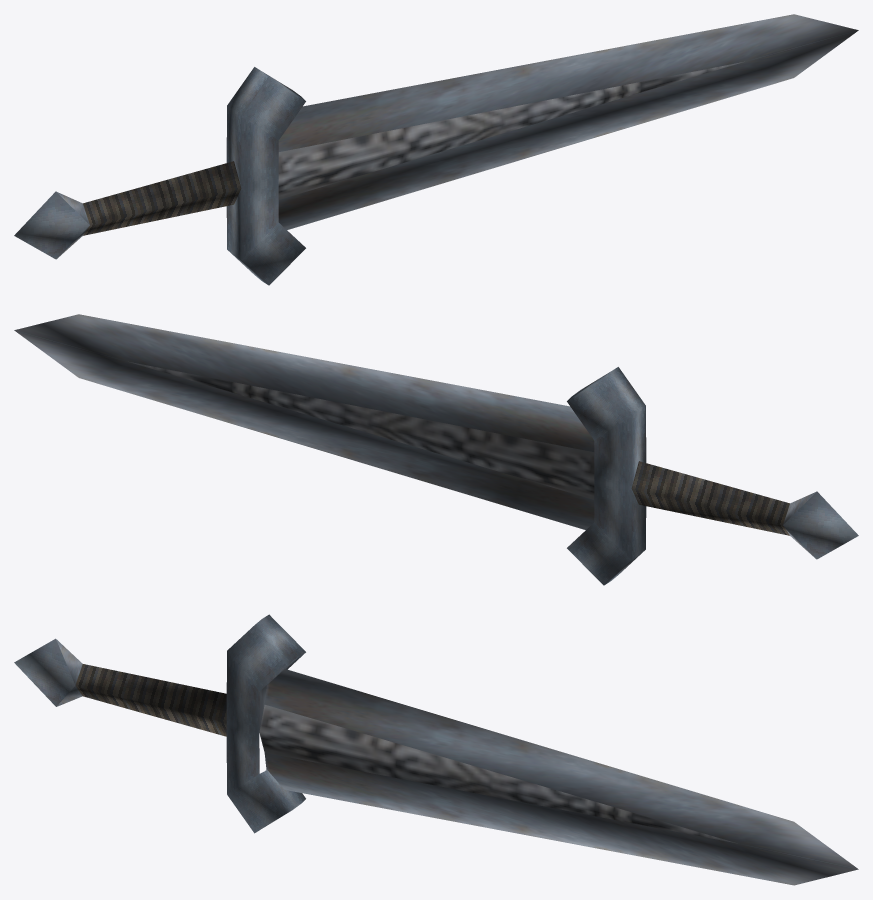
The picture shows the model from 3 angles, top to bottom: view 1: azimuth 30°, elevation 25°; view 2: azimuth 150°, elevation 25°; view 3: azimuth 330°, elevation 25°; orthographic projection.
Visible parts, largest first — view 1: it110; view 2: it110; view 3: it110.
Boxes of the visible parts, x1,y1,x2,y2 form: it110: (14,14,858,285); it110: (14,314,858,585); it110: (14,614,858,885).
Size of the model in its own units: 4.57 by 1.08 by 0.1792.
Materials: 4 (4 with a texture image).
